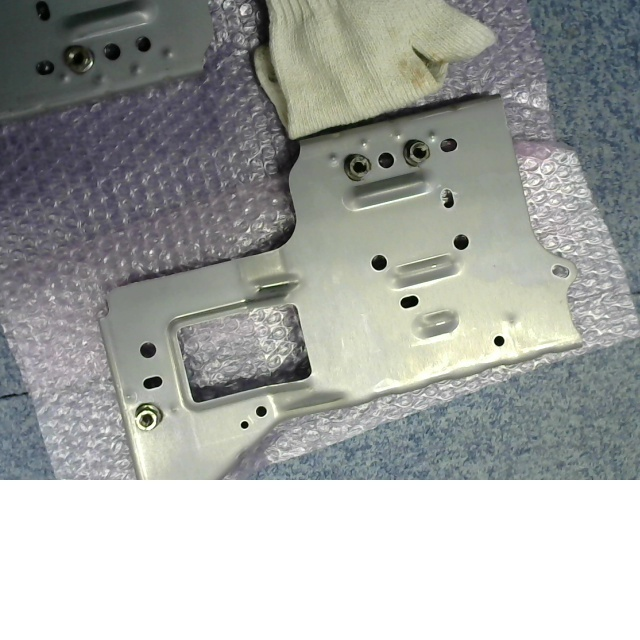dog: (64, 45, 95, 74), (134, 404, 163, 432), (344, 154, 372, 182), (403, 139, 429, 167)
